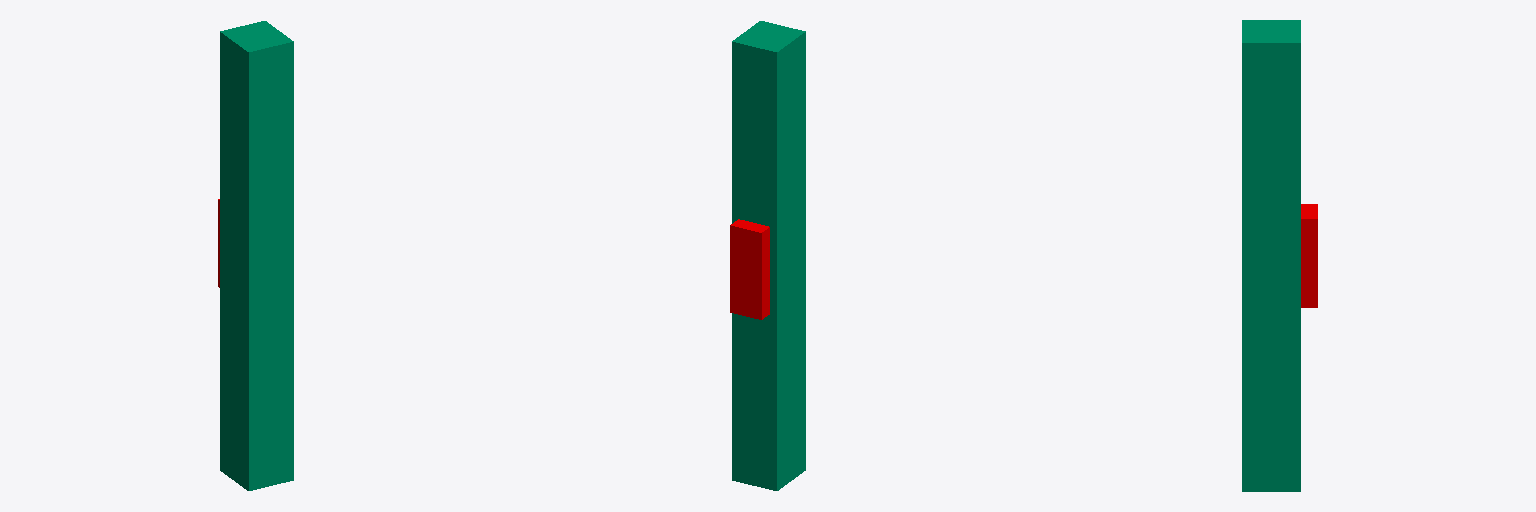
URDF robot description (knife):
<?xml version='1.0' encoding='utf-8'?>
<robot name="knife">
  <link name="base" /><joint name="joint_0" type="fixed"><origin xyz="0 0 0" rpy="0 0 0" /><parent link="base" /><child link="link_0" /></joint><link name="link_1">
    <visual name="link_1">
      <origin xyz="0 0.011777 0" rpy="0 0 0" />
      <geometry>
        <box size="0.011486283025687995 0.005419367285443063 0.030348071099996043" /></geometry>
    <material name="red"><color rgba="1 0 0 1" /></material></visual>
    <collision>
      <origin xyz="0 0.011777 0" rpy="0 0 0" />
      <geometry>
        <box size="0.011486283025687995 0.005419367285443063 0.030348071099996043" /></geometry>
    </collision>
    </link>
  <joint name="joint_1" type="prismatic">
    <origin xyz="0 0 0" />
    <axis xyz="0 0 1" />
    <child link="link_1" />
    <parent link="link_0" />
    <limit lower="-0.043623" upper="0.006377" effort="100.0" velocity="1.0" />
  </joint>
  <link name="link_0">
    <visual name="link_0">
      <origin xyz="0 0 0" />
      <geometry>
        <box size="0.01648412834228956 0.01813382844690975 0.15274164922488254" /></geometry>
    </visual>
    <collision>
      <origin xyz="0 0 0" />
      <geometry>
        <box size="0.01648412834228956 0.01813382844690975 0.15274164922488254" /></geometry>
    </collision>
    </link>
</robot>

--- Facts derived from the render (not from the file) ---
3 views of the same robot in one strip: view 1: azimuth 30°, elevation 25°; view 2: azimuth 150°, elevation 25°; view 3: azimuth 270°, elevation 25° (orthographic).
Robot: knife — 3 links, 2 joints (1 prismatic, 1 fixed); root link base; default pose: all joints at 0.
Visible links, largest first — view 1: link_0; view 2: link_0, link_1; view 3: link_0, link_1.
Link boxes in pixels (<box>): link_0: <box>220,21,293,490</box>; link_0: <box>732,21,805,490</box>; link_1: <box>730,219,769,319</box>; link_0: <box>1242,20,1300,491</box>; link_1: <box>1301,204,1317,307</box>.
Bounding box of the posed robot: 0.0165 × 0.0236 × 0.1527 m (x, y, z).
Geometry: primitives only (box / cylinder / sphere), no mesh files.
